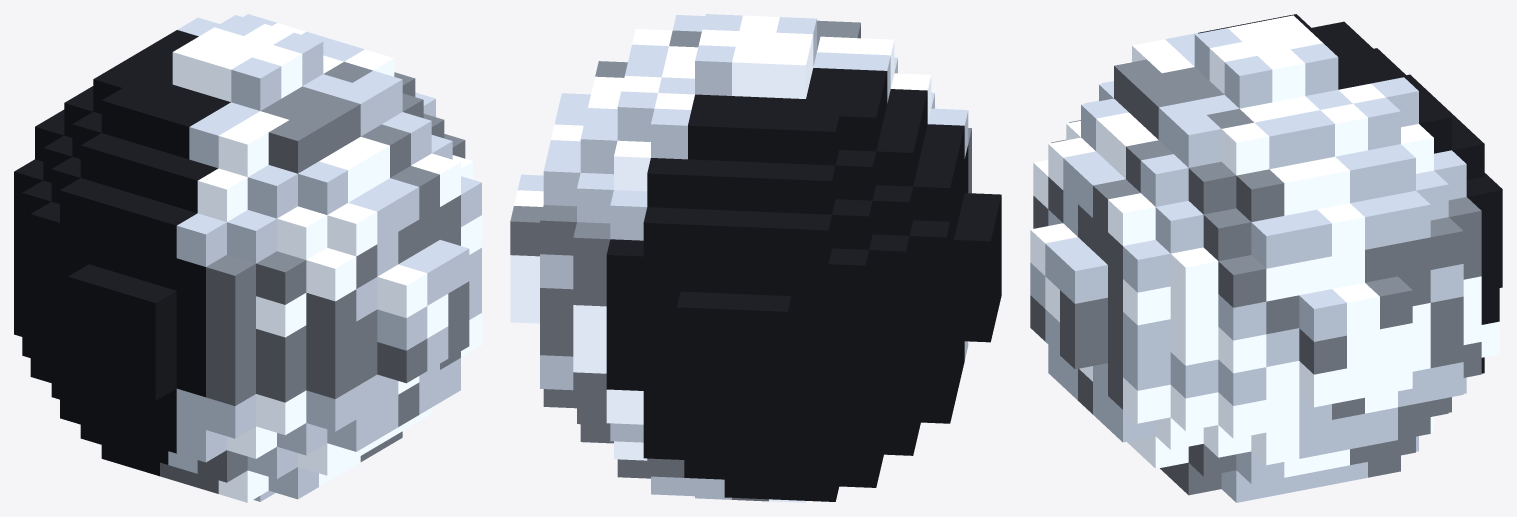
File: voxel-moon.glb
3 views of the same model, side by side, from view 1: azimuth 30°, elevation 25°; view 2: azimuth 150°, elevation 25°; view 3: azimuth 270°, elevation 25° (orthographic). The views are drawn at different scales.
Visible parts, largest first — view 1: moon_crescent_dark, moon_crescent_grey, moon_crescent_crater, moon_crescent_lit; view 2: moon_crescent_dark, moon_crescent_grey, moon_crescent_lit, moon_crescent_crater; view 3: moon_crescent_grey, moon_crescent_lit, moon_crescent_crater, moon_crescent_dark.
Boxes of the visible parts, x1=… form: moon_crescent_dark: x1=14, y1=30, x2=230, y2=476; moon_crescent_grey: x1=168, y1=14, x2=481, y2=501; moon_crescent_crater: x1=160, y1=61, x2=469, y2=493; moon_crescent_lit: x1=172, y1=23, x2=481, y2=502; moon_crescent_dark: x1=606, y1=68, x2=1001, y2=501; moon_crescent_grey: x1=517, y1=14, x2=968, y2=499; moon_crescent_lit: x1=510, y1=15, x2=931, y2=502; moon_crescent_crater: x1=510, y1=20, x2=971, y2=501; moon_crescent_grey: x1=1030, y1=28, x2=1466, y2=502; moon_crescent_lit: x1=1030, y1=15, x2=1499, y2=477; moon_crescent_crater: x1=1030, y1=59, x2=1481, y2=495; moon_crescent_dark: x1=1198, y1=14, x2=1502, y2=373.
Bounding box in the file's own units: 1.05 × 1.04 × 1.05.
